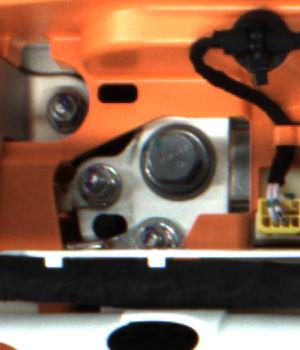nut_b: (132, 115, 224, 200)
screw_s: (74, 161, 122, 204), (134, 217, 180, 249), (48, 88, 76, 127)
